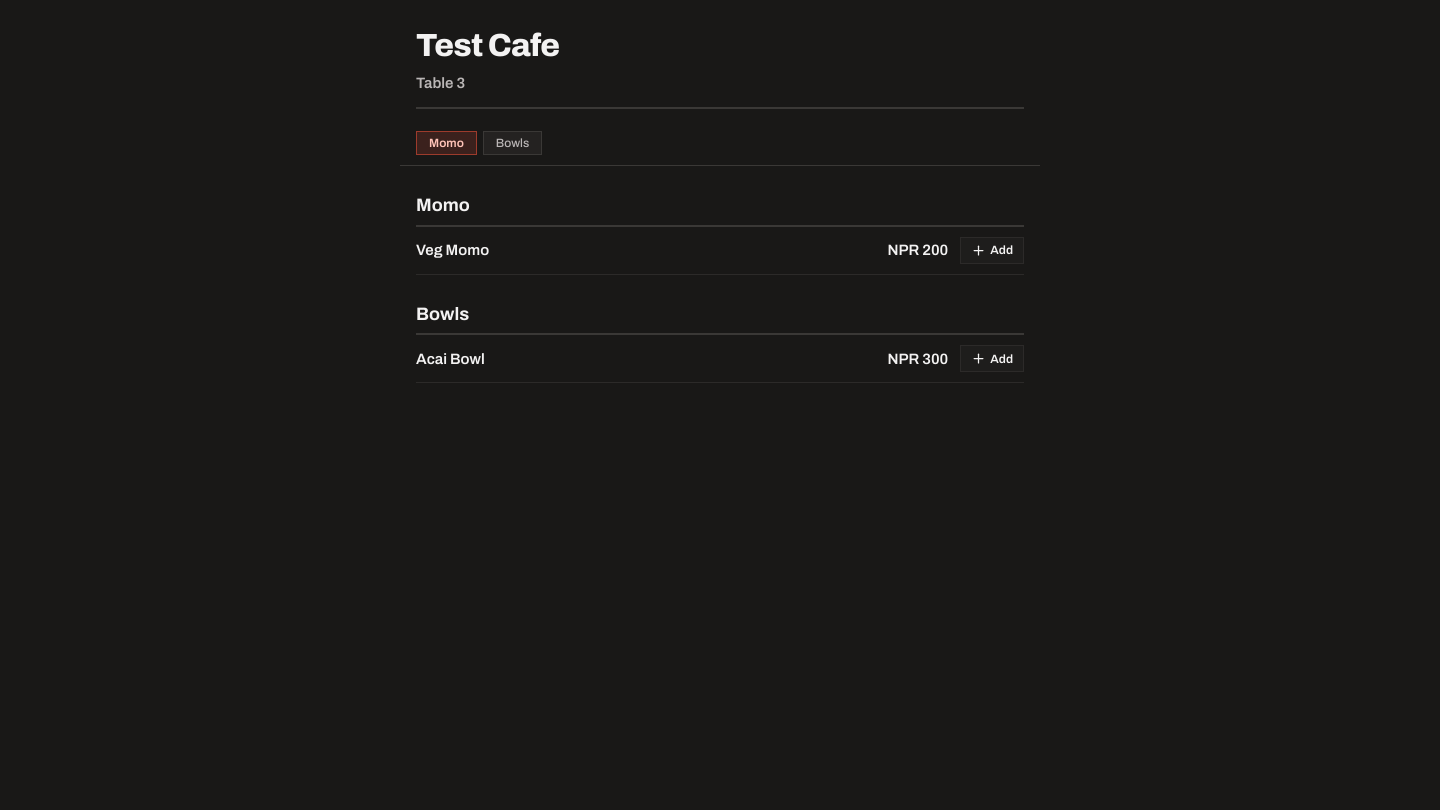
Test case: the phone's Back in a dish being built (S842) › names the count in "Add another", as the button shows it
The width and height of the screenshot is (1440, 810).
What coordinates should you click on to do the following:
click the button with aria-label "Choose options and add Acai Bowl to your order"
I would click on:
 (992, 359)
Its box is [960, 345, 1024, 372].
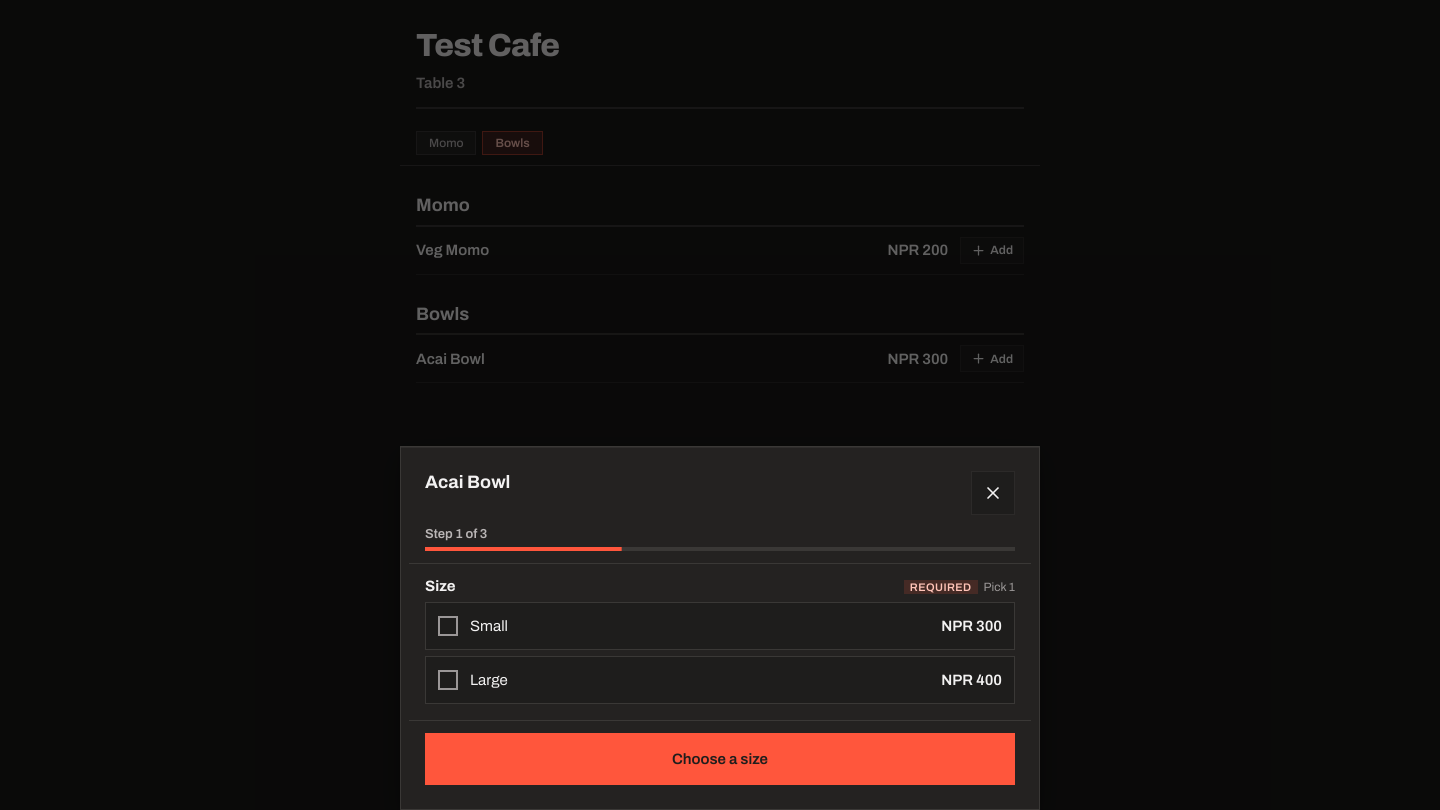
What coordinates should you click on to do the following:
click the radio button labelled "Small NPR 300"
I would click on:
 (489, 626)
Its box is [425, 602, 1015, 650].
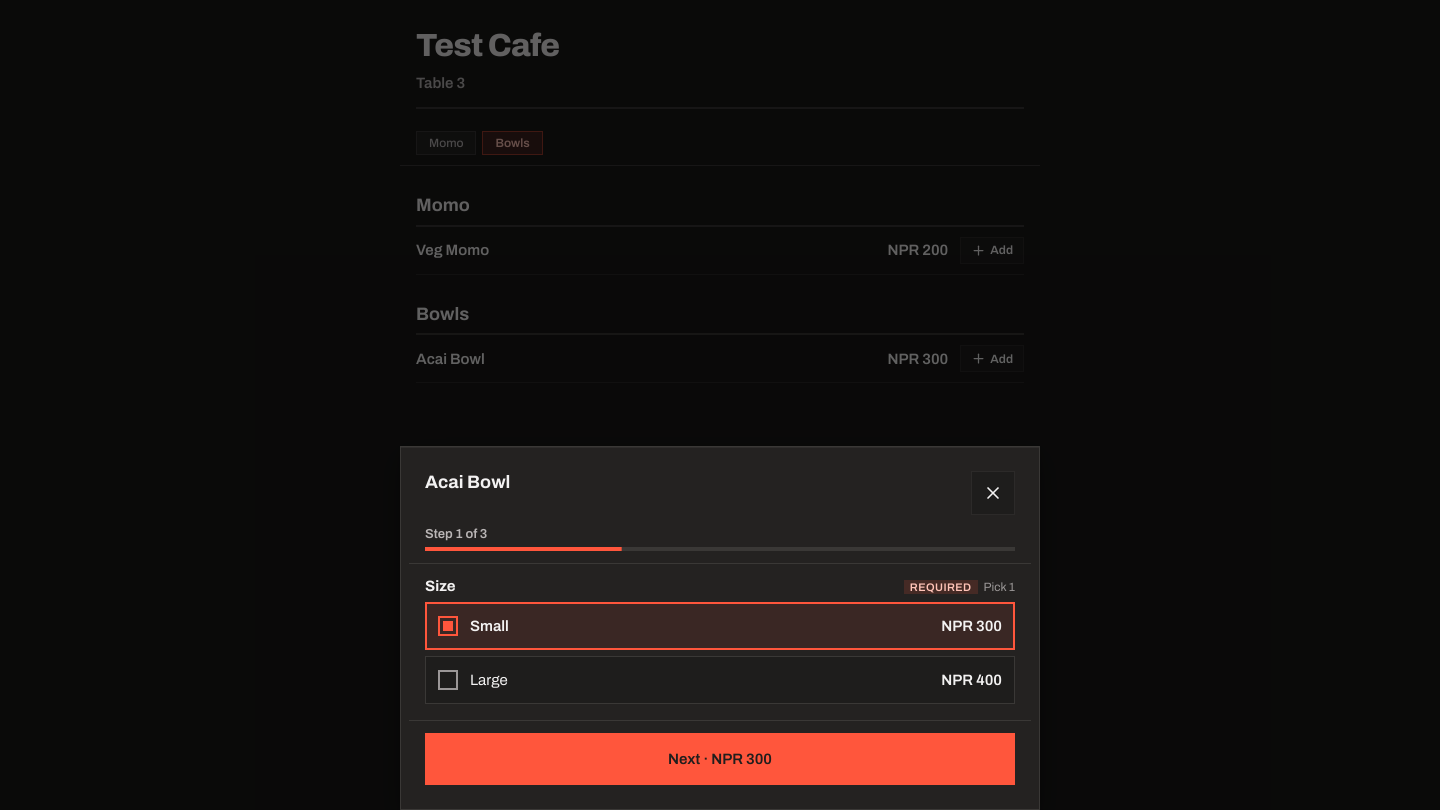
What coordinates should you click on to do the following:
click the button "Next · NPR 300"
I would click on:
 (720, 759)
Its box is [425, 733, 1015, 785].
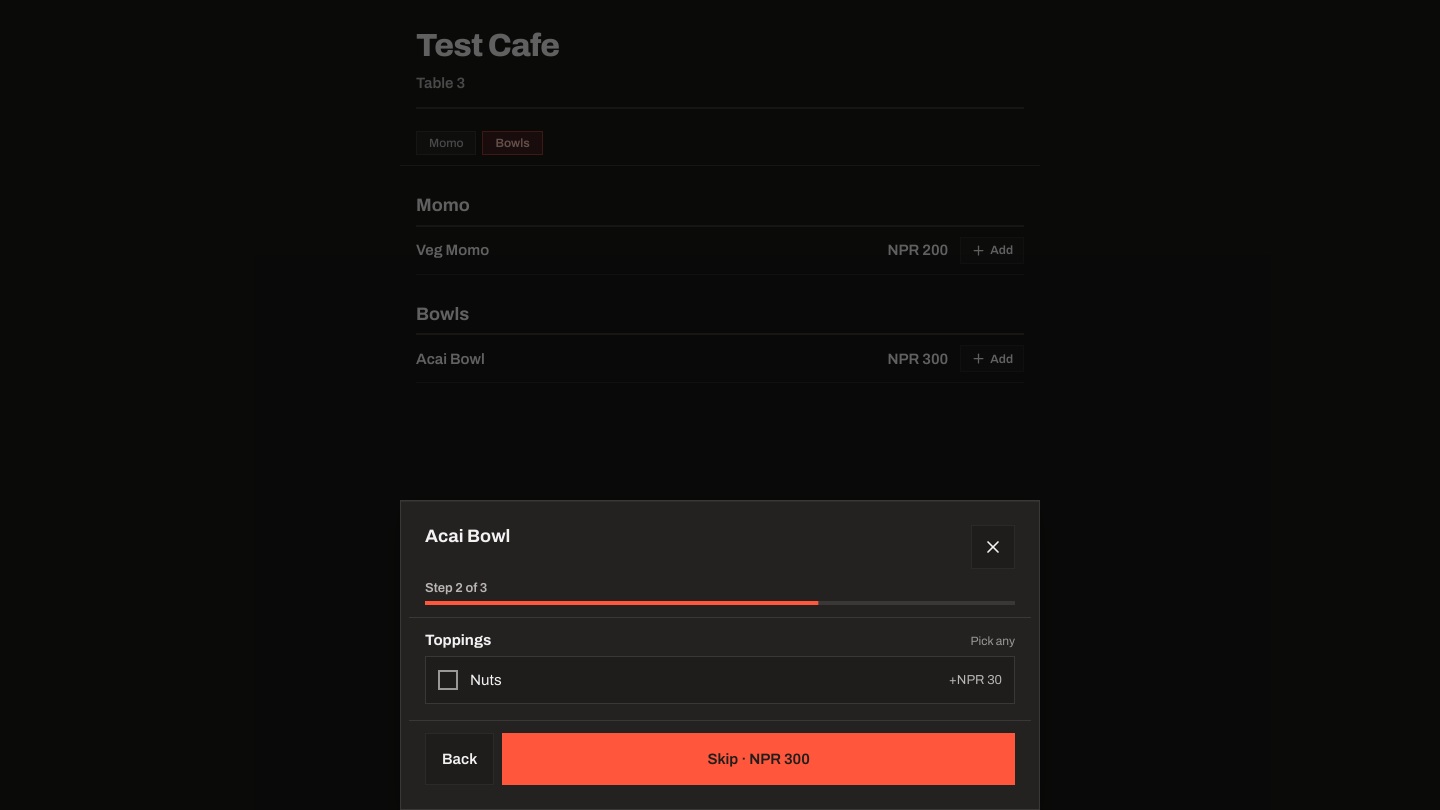
What coordinates should you click on to do the following:
click the button "Skip · NPR 300"
I would click on:
 (759, 759)
Its box is [502, 733, 1015, 785].
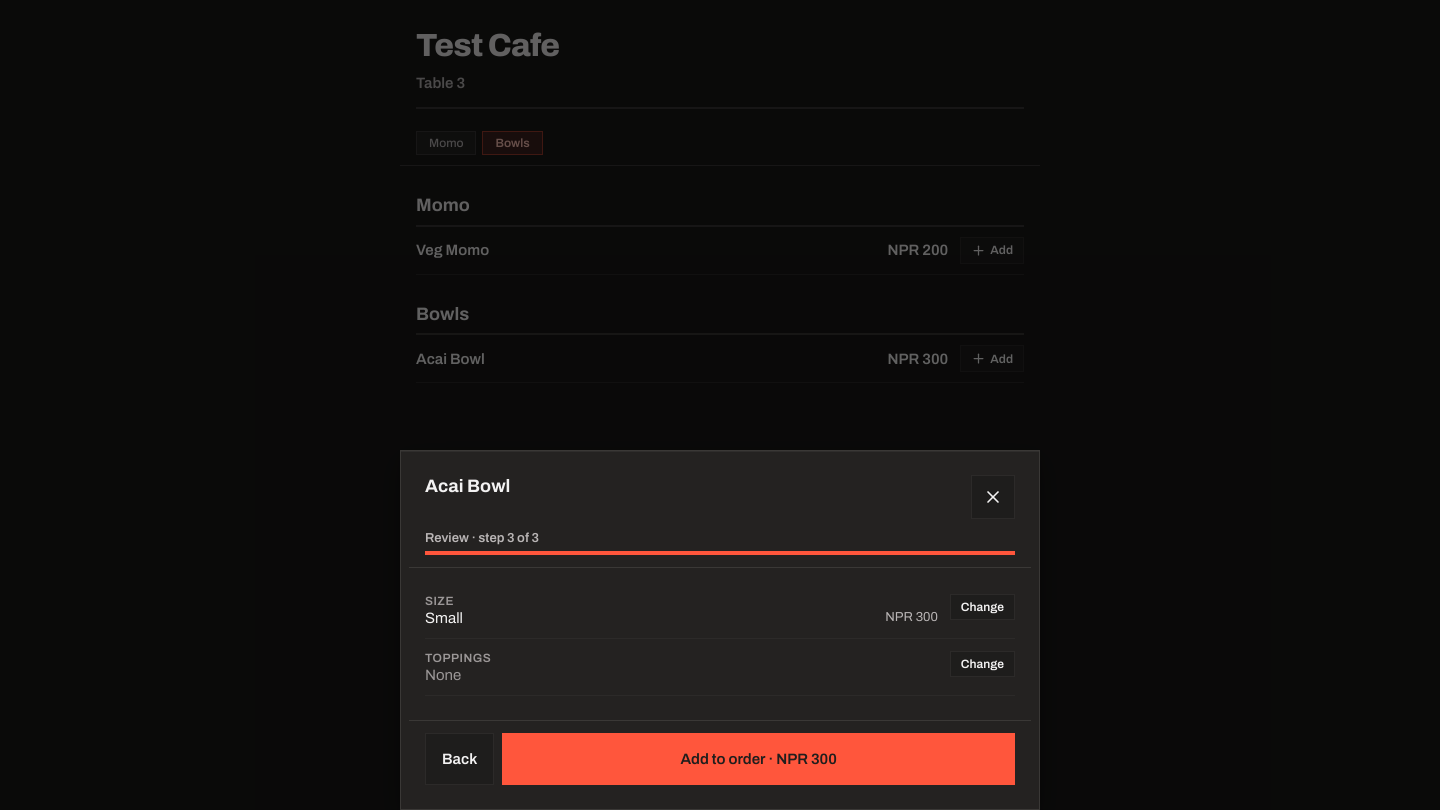
What coordinates should you click on to do the following:
click the button "Add to order · NPR 300"
I would click on:
 (759, 759)
Its box is [502, 733, 1015, 785].
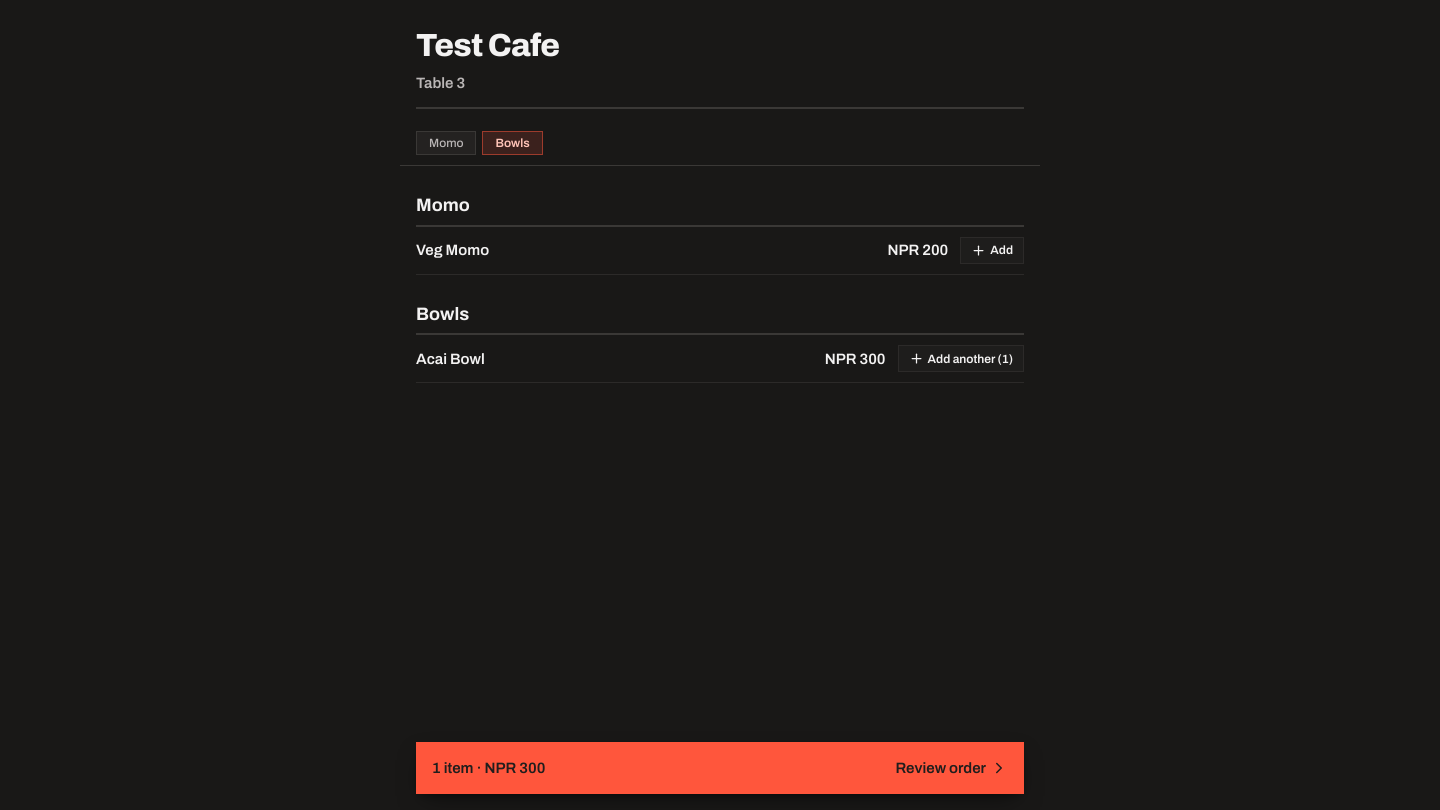
Expected: the button with aria-label "Add another Acai Bowl, 1 in your order" reads "Add another (1)", [898, 345, 1024, 372]
